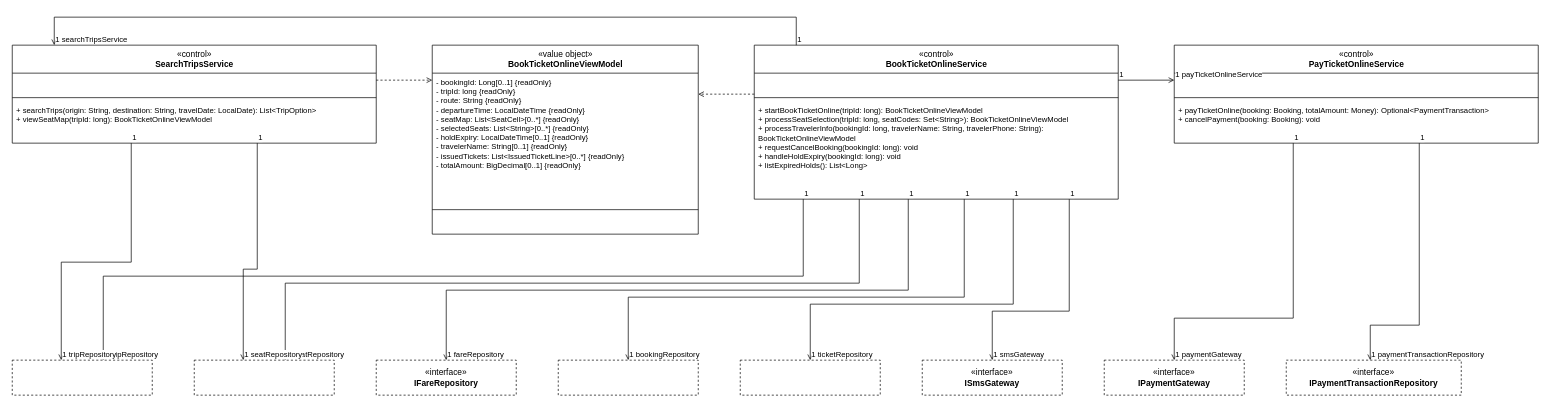
This 1551x407 diagram has some shape labels left out. The shapes that lost their labels are listed below. From the top down, each one's centre as x and y in pixels, then its label:
the point at 82,377: «interface» ITripRepository
the point at 264,377: «interface» ISeatRepository
the point at 628,377: «interface» IBookingRepository
the point at 810,377: «interface» ITicketRepository
